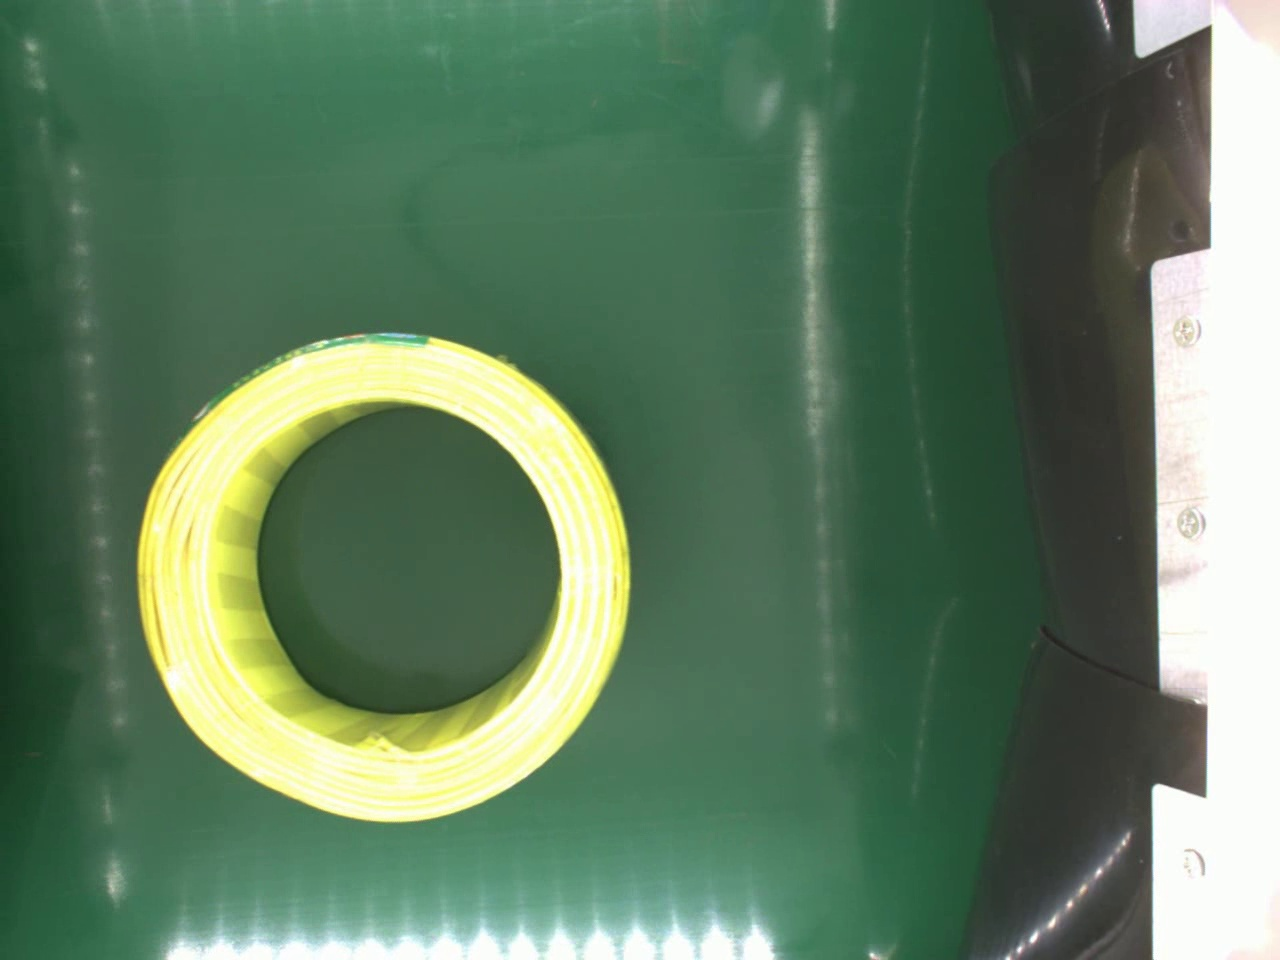yellow: (135, 328, 634, 826)
